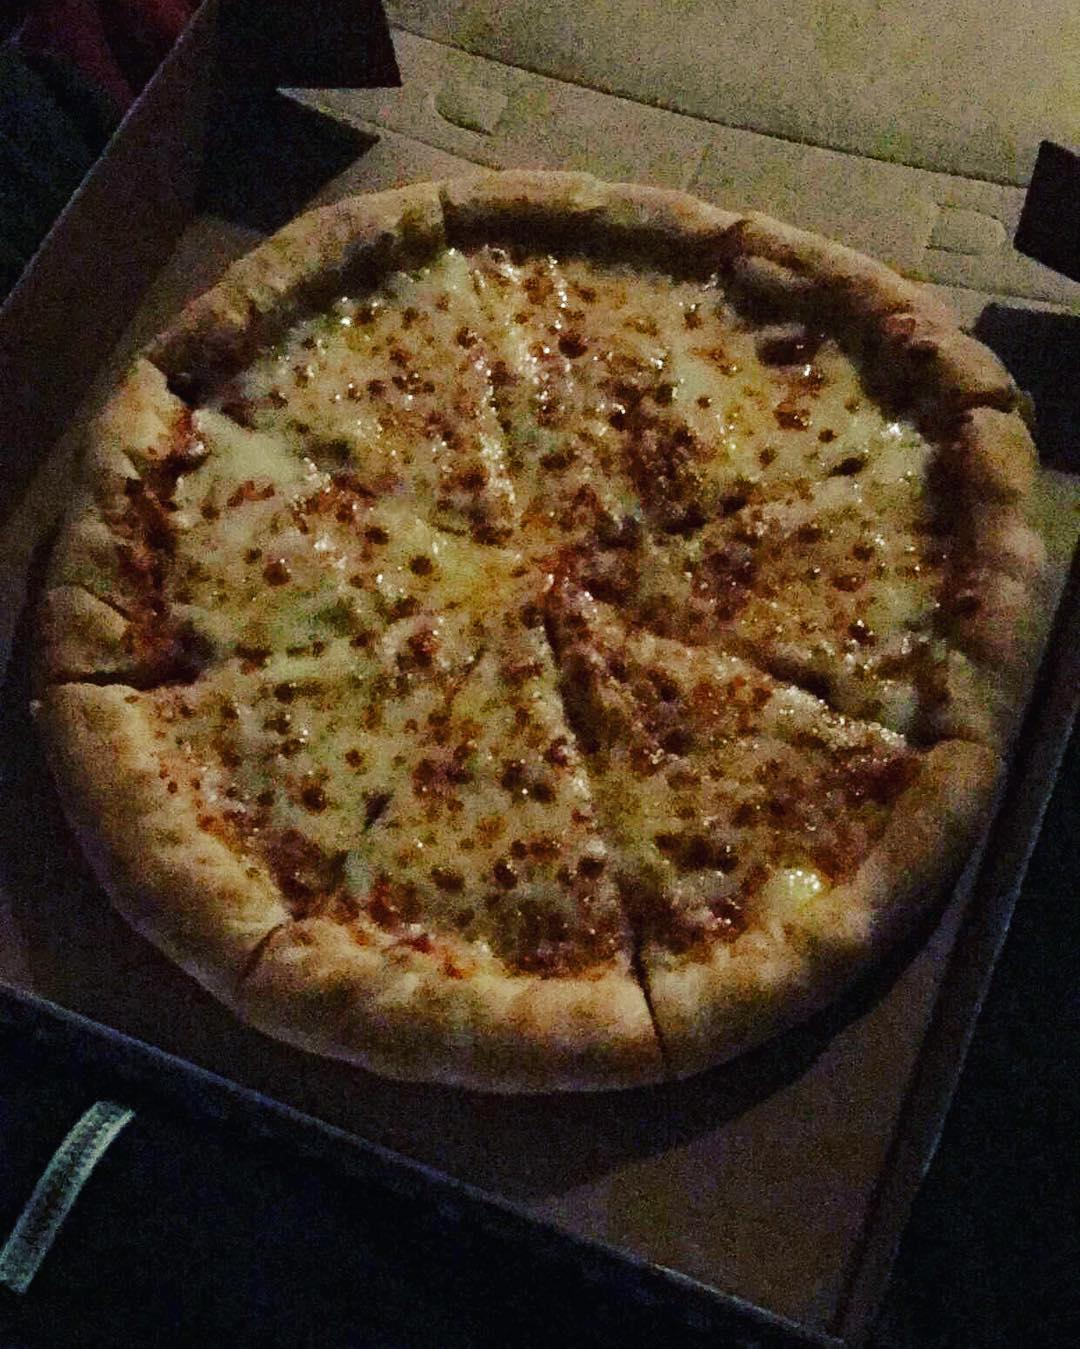Cheese: (177, 444, 938, 649), (176, 648, 938, 811), (250, 315, 863, 442), (267, 812, 827, 929)
Pizza: (0, 166, 1080, 1092)
